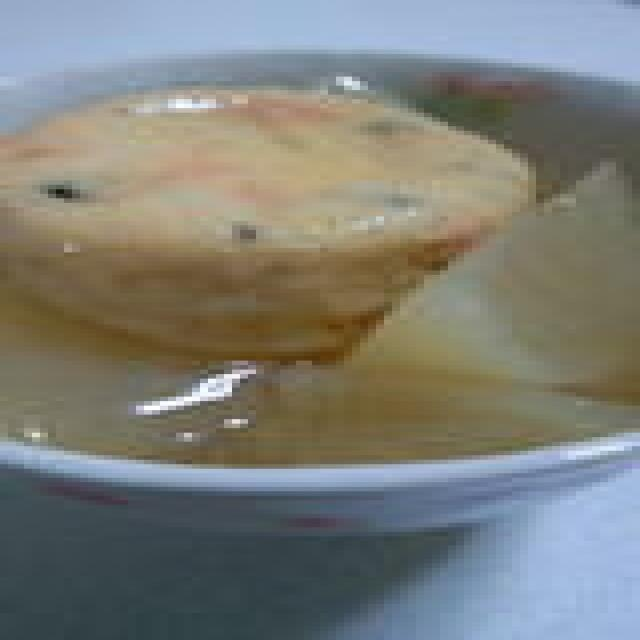熟制海鲜: (0, 0, 640, 365)
